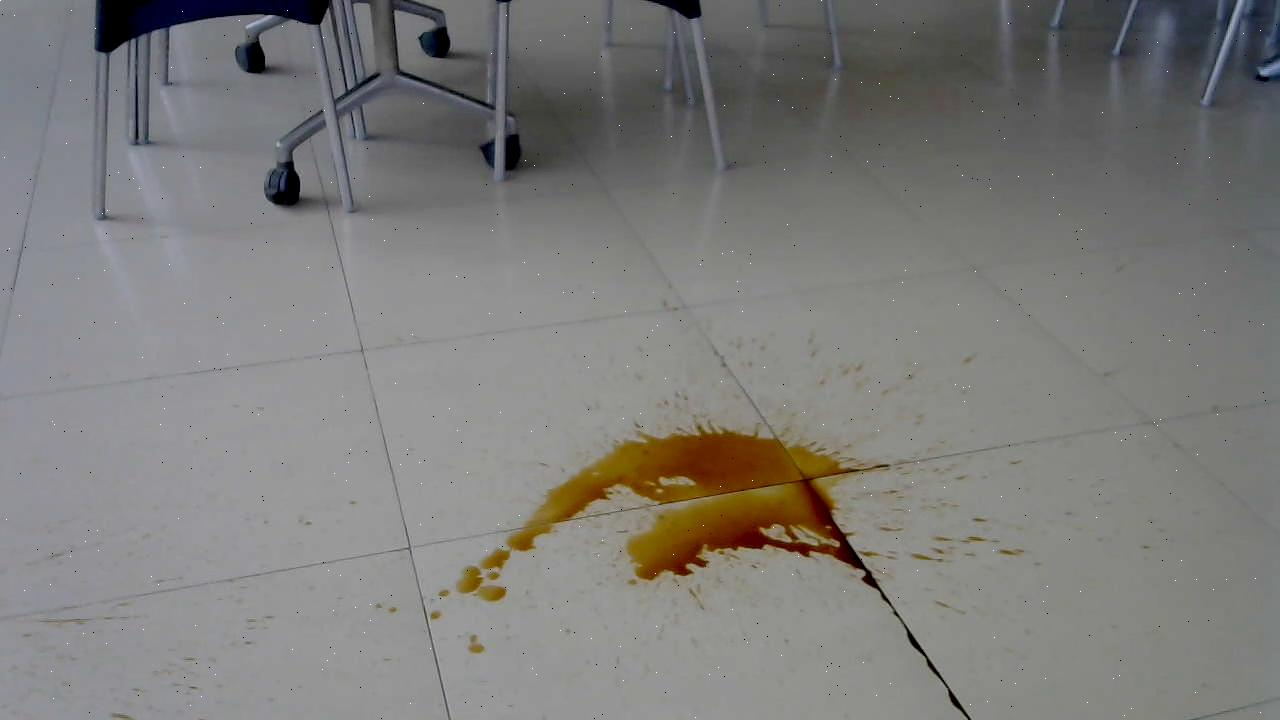dirty_floor: (418, 413, 929, 660)
